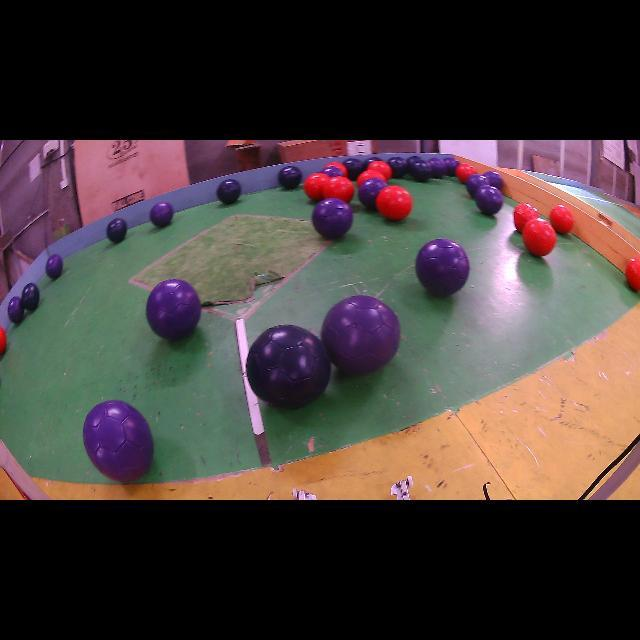B: (246, 325, 331, 409), (216, 180, 241, 204), (21, 282, 40, 311), (279, 166, 302, 189), (409, 159, 432, 182), (106, 219, 128, 242), (388, 156, 408, 179), (344, 159, 365, 180), (365, 156, 380, 167), (406, 155, 421, 165)
P: (321, 295, 400, 374), (82, 400, 154, 482), (146, 279, 201, 340), (416, 239, 470, 295), (312, 198, 352, 239), (359, 178, 388, 210), (475, 185, 504, 215), (150, 201, 174, 228), (466, 174, 490, 198), (8, 296, 24, 324), (45, 254, 62, 279), (428, 158, 448, 179), (484, 171, 502, 190), (444, 158, 460, 176), (321, 166, 345, 178)
R: (376, 185, 412, 221), (522, 219, 556, 256), (322, 176, 355, 202), (304, 172, 330, 201), (514, 204, 539, 232), (550, 205, 574, 234), (368, 160, 392, 181), (356, 170, 386, 186), (625, 259, 640, 290), (324, 161, 348, 178), (456, 164, 476, 182)
